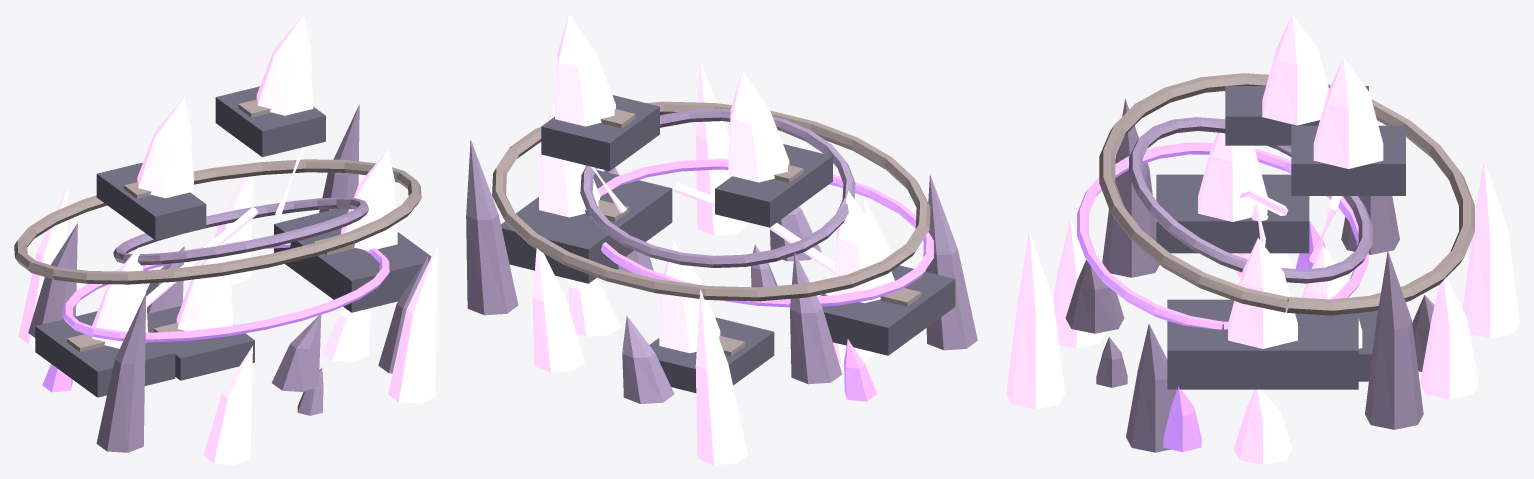
The model's file is nebula-wreckage.glb.
3 views of the same model, side by side, from view 1: azimuth 30°, elevation 25°; view 2: azimuth 150°, elevation 25°; view 3: azimuth 270°, elevation 25° (orthographic). The views are drawn at different scales.
Visible parts, largest first — view 1: Nebula drifting crystal wreck; view 2: Nebula drifting crystal wreck; view 3: Nebula drifting crystal wreck.
Part boxes in pixels (x1,y1,x2,y2): Nebula drifting crystal wreck: (14, 14, 437, 464); Nebula drifting crystal wreck: (466, 14, 977, 464); Nebula drifting crystal wreck: (1006, 14, 1519, 464).
Bounding box in the file's own units: 5.36 × 4.27 × 5.11.
